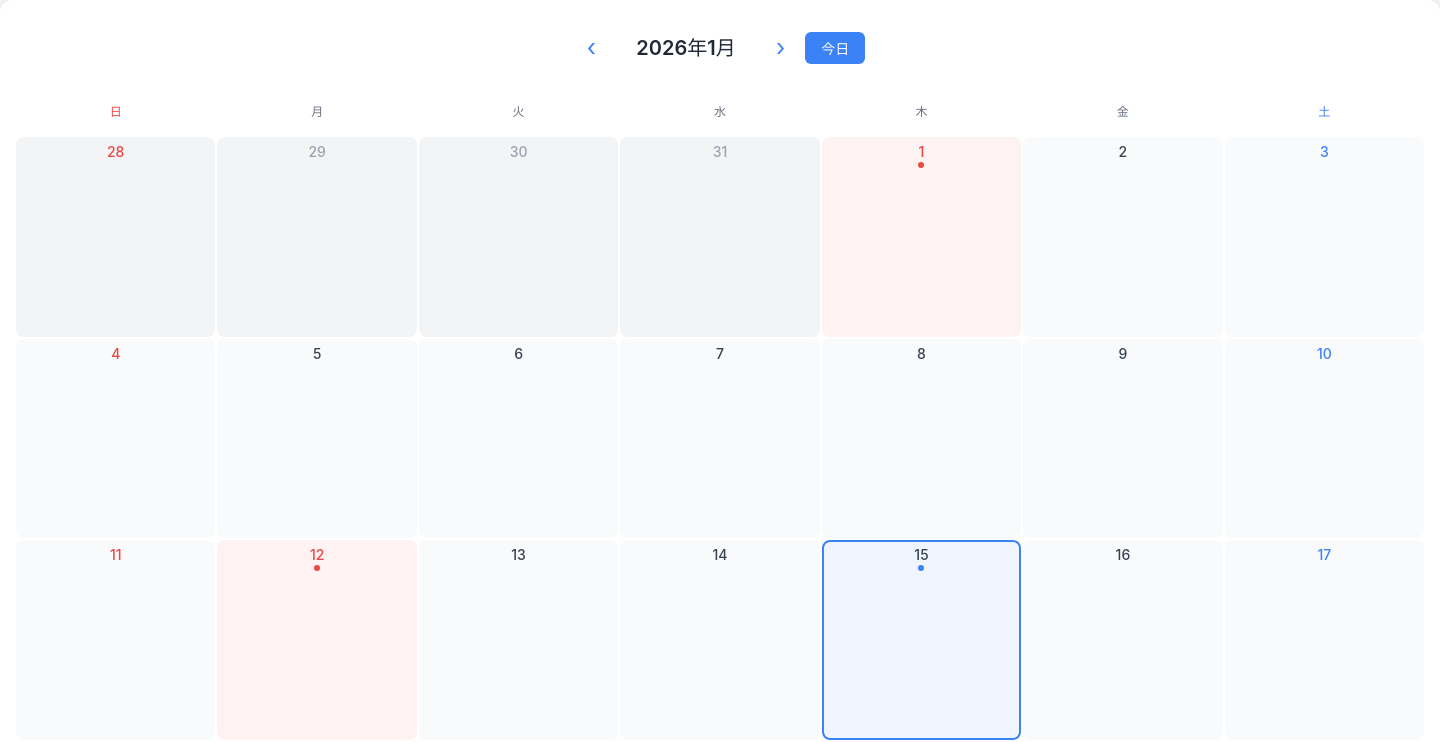
Test: Calendar › 既存機能との互換性 › ボタンでの月移動が正常に動作する
The width and height of the screenshot is (1440, 742).
Expected: the heading "2026年1月" is shown, x1=636 y1=36 x2=736 y2=60
次月ボタンをクリック
What coordinates should you click on to do the following:
click the button named "次月"
I would click on:
 (781, 48)
Its box is x1=764 y1=29 x2=797 y2=66.
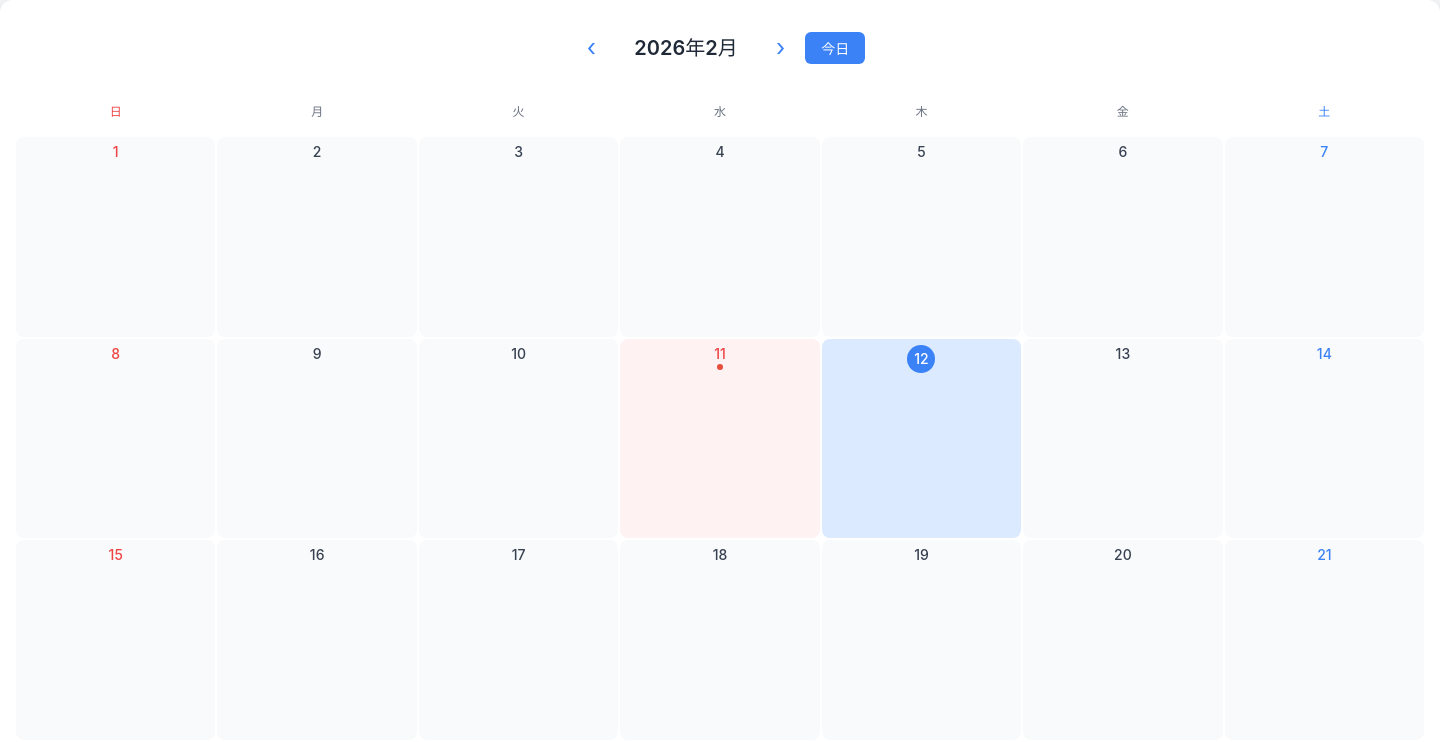
Now the heading "2026年2月" is shown, box x1=634 y1=36 x2=738 y2=60
前月ボタンをクリック
What coordinates should you click on to do the following:
click the button named "前月"
I would click on:
 (591, 48)
Its box is x1=575 y1=29 x2=608 y2=66.
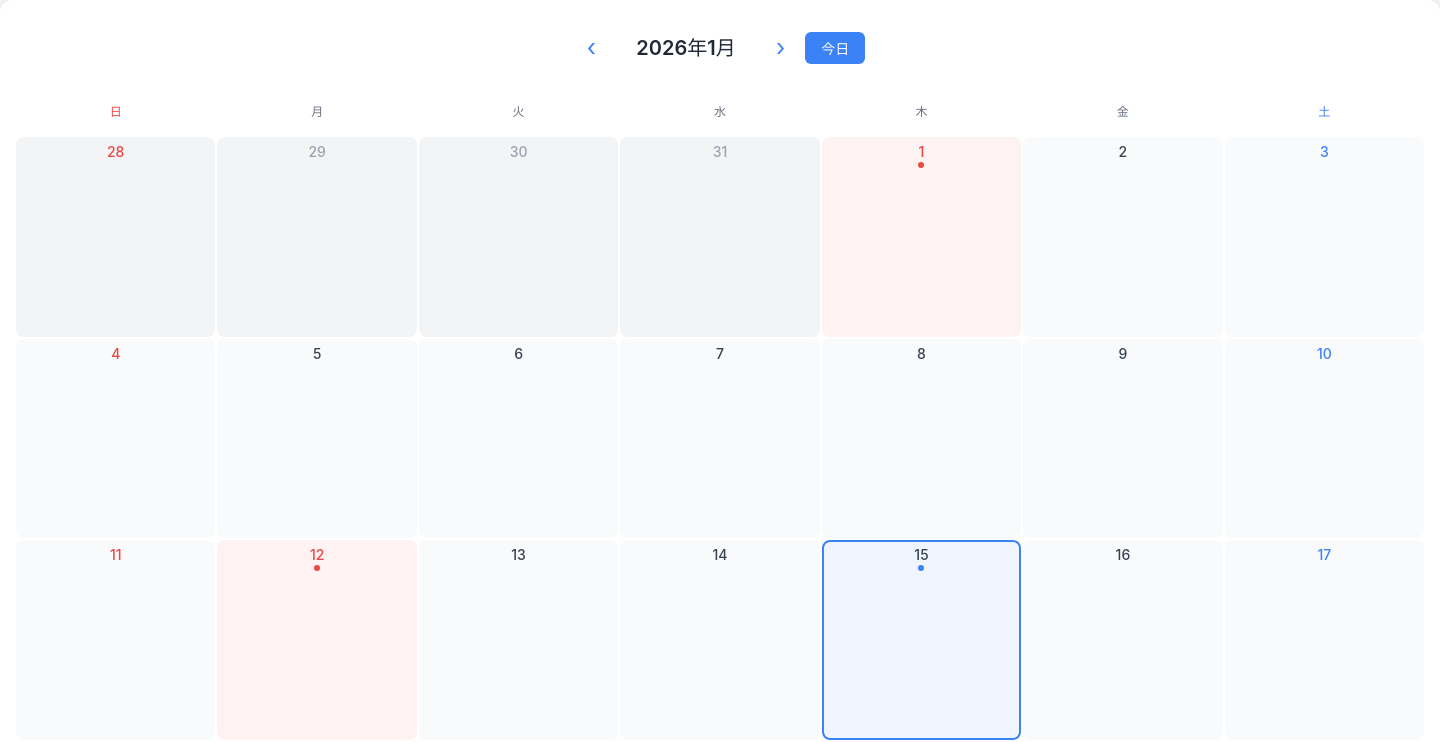
Now the heading "2026年1月" is shown, box x1=636 y1=36 x2=736 y2=60
